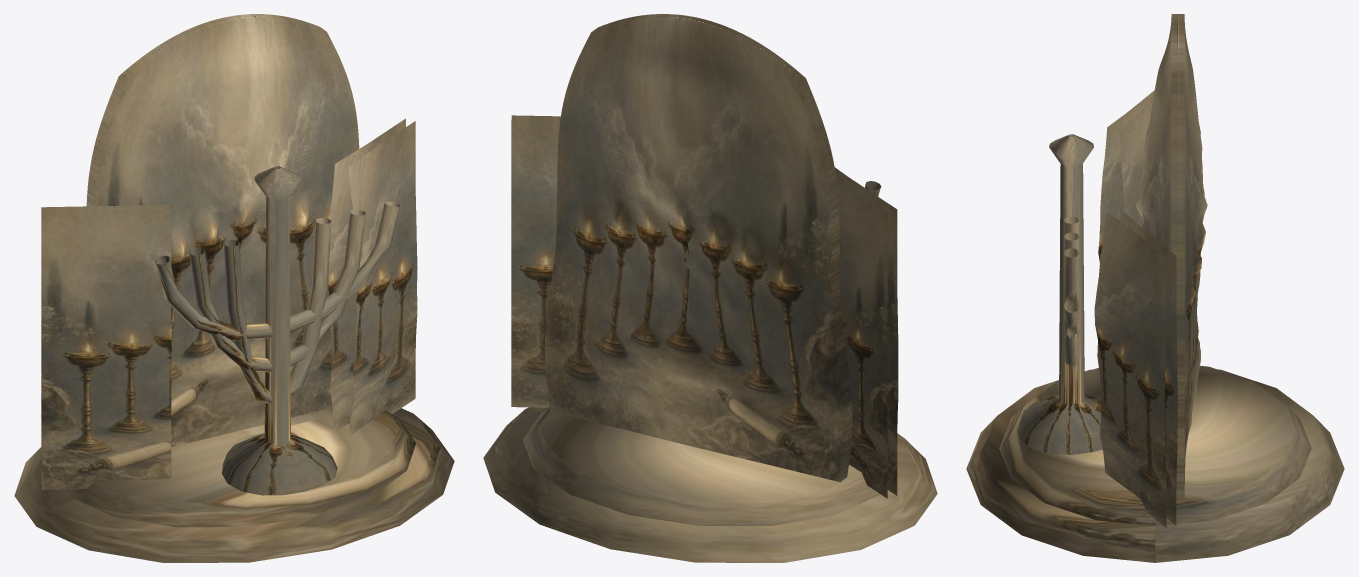
The model's file is all-things-new-4.glb.
The picture shows the model from 3 angles, left to right: view 1: azimuth 30°, elevation 25°; view 2: azimuth 150°, elevation 25°; view 3: azimuth 270°, elevation 25°; orthographic projection. The views are drawn at different scales.
Visible parts, largest first — view 1: PaintingSculptureMonument; view 2: PaintingSculptureMonument; view 3: PaintingSculptureMonument.
Boxes of the visible parts, x1,y1,x2,y2 form: PaintingSculptureMonument: (14, 14, 454, 562); PaintingSculptureMonument: (483, 14, 937, 562); PaintingSculptureMonument: (966, 14, 1344, 562).
Size of the model in its own units: 2.76 by 2.99 by 2.35.
1 material, 1 textured.
